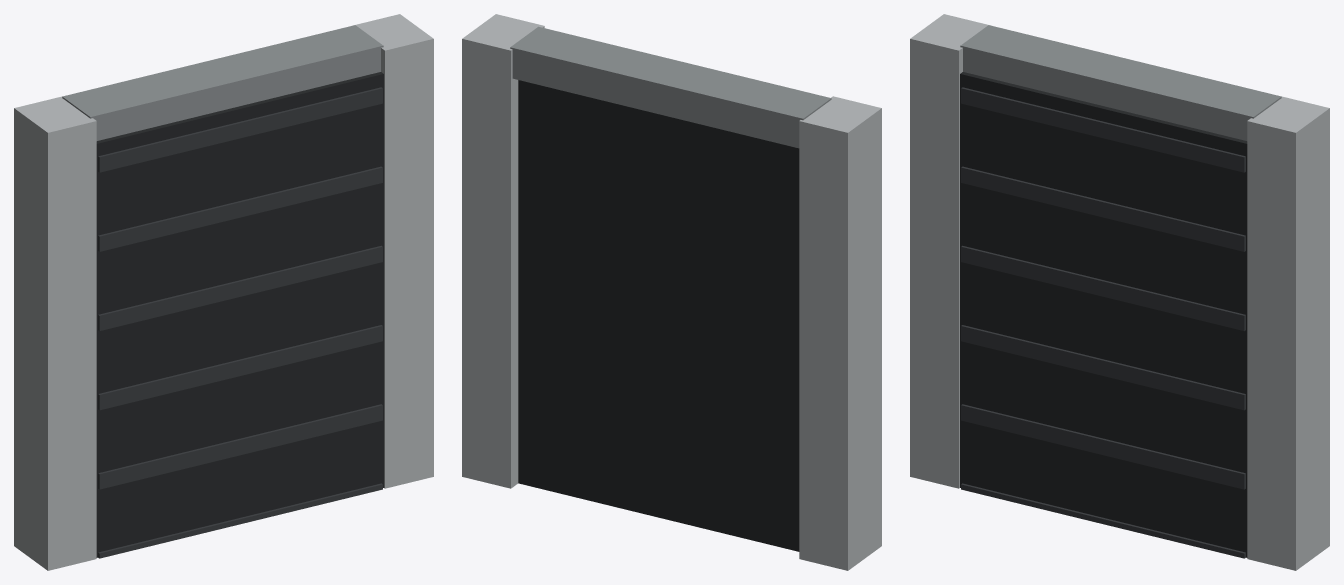
Rendered from section-6.obj.
3 renders of one model, left to right at view 1: azimuth 30°, elevation 25°; view 2: azimuth 150°, elevation 25°; view 3: azimuth 330°, elevation 25°, orthographic.
Bounding box in the file's own units: 0.79 × 0.86 × 0.121.
1 material, 1 textured.
